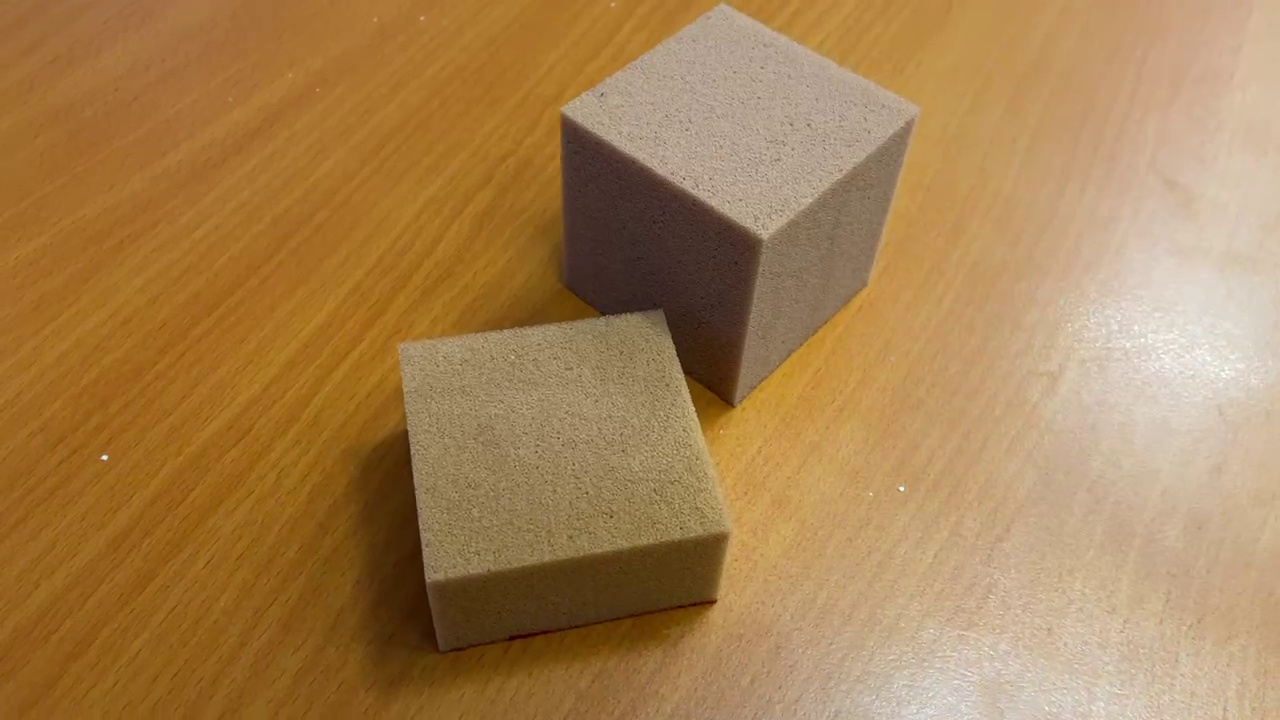Cube: (550, 1, 923, 413)
Cube_short: (388, 303, 734, 655)
